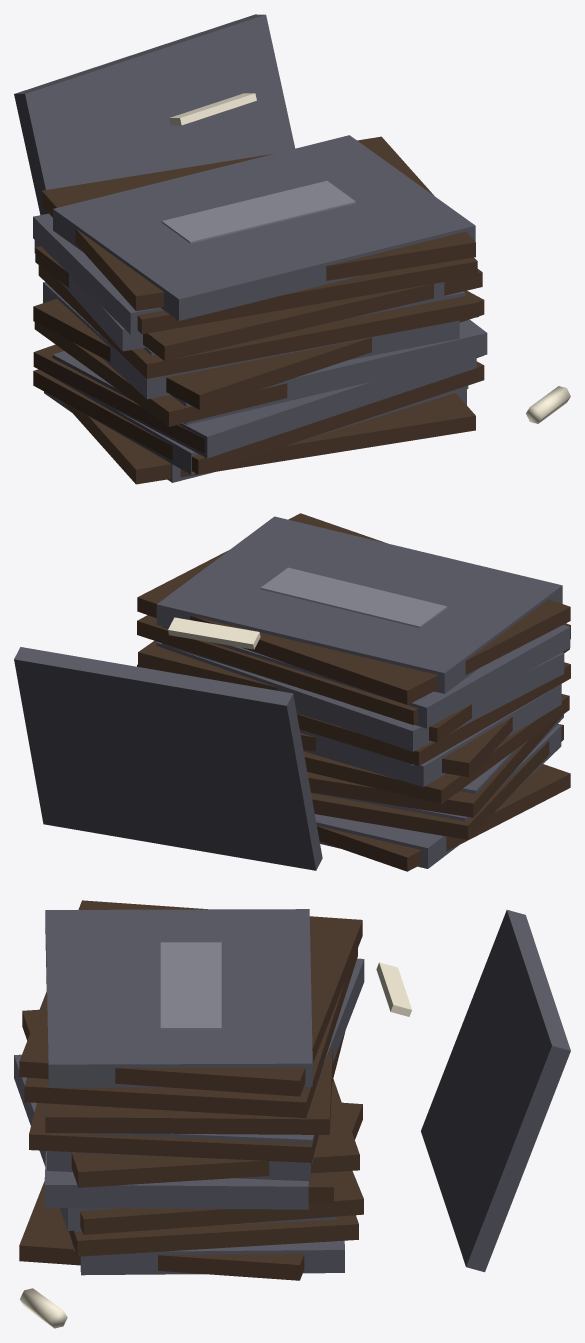
The model's file is slate_stack.glb.
The picture shows the model from 3 angles, top to bottom: view 1: azimuth 30°, elevation 25°; view 2: azimuth 150°, elevation 25°; view 3: azimuth 270°, elevation 25°; orthographic projection. The views are drawn at different scales.
Visible parts, largest first — view 1: slate_stack; view 2: slate_stack; view 3: slate_stack.
Boxes of the visible parts, x1,y1,x2,y2 form: slate_stack: [14, 14, 570, 484]; slate_stack: [14, 513, 570, 871]; slate_stack: [14, 900, 570, 1328].
Bounding box in the file's own units: 0.5113 × 0.2695 × 0.5482.
